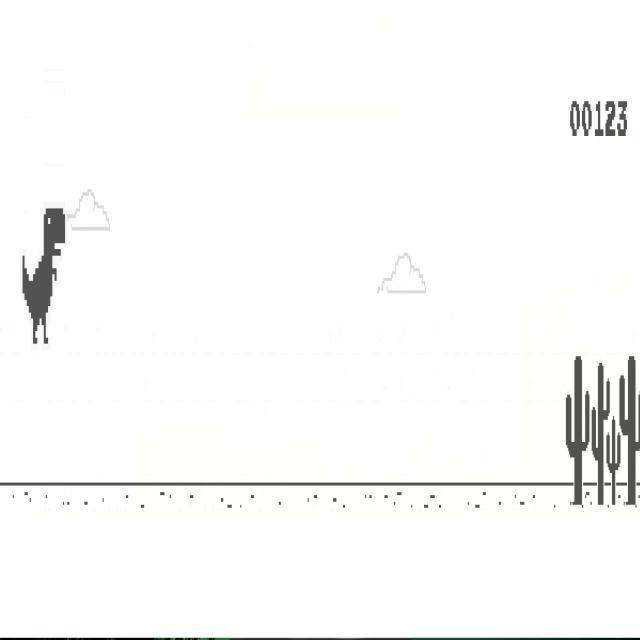cacto: (565, 354, 590, 506), (618, 354, 640, 506), (591, 362, 610, 506), (606, 416, 621, 506)
dino: (22, 205, 66, 346)
